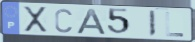5: (106, 8, 132, 37)
A: (75, 8, 109, 36)
C: (54, 8, 74, 34)
I: (148, 9, 157, 38)
L: (165, 11, 186, 38)
X: (22, 5, 49, 33)
